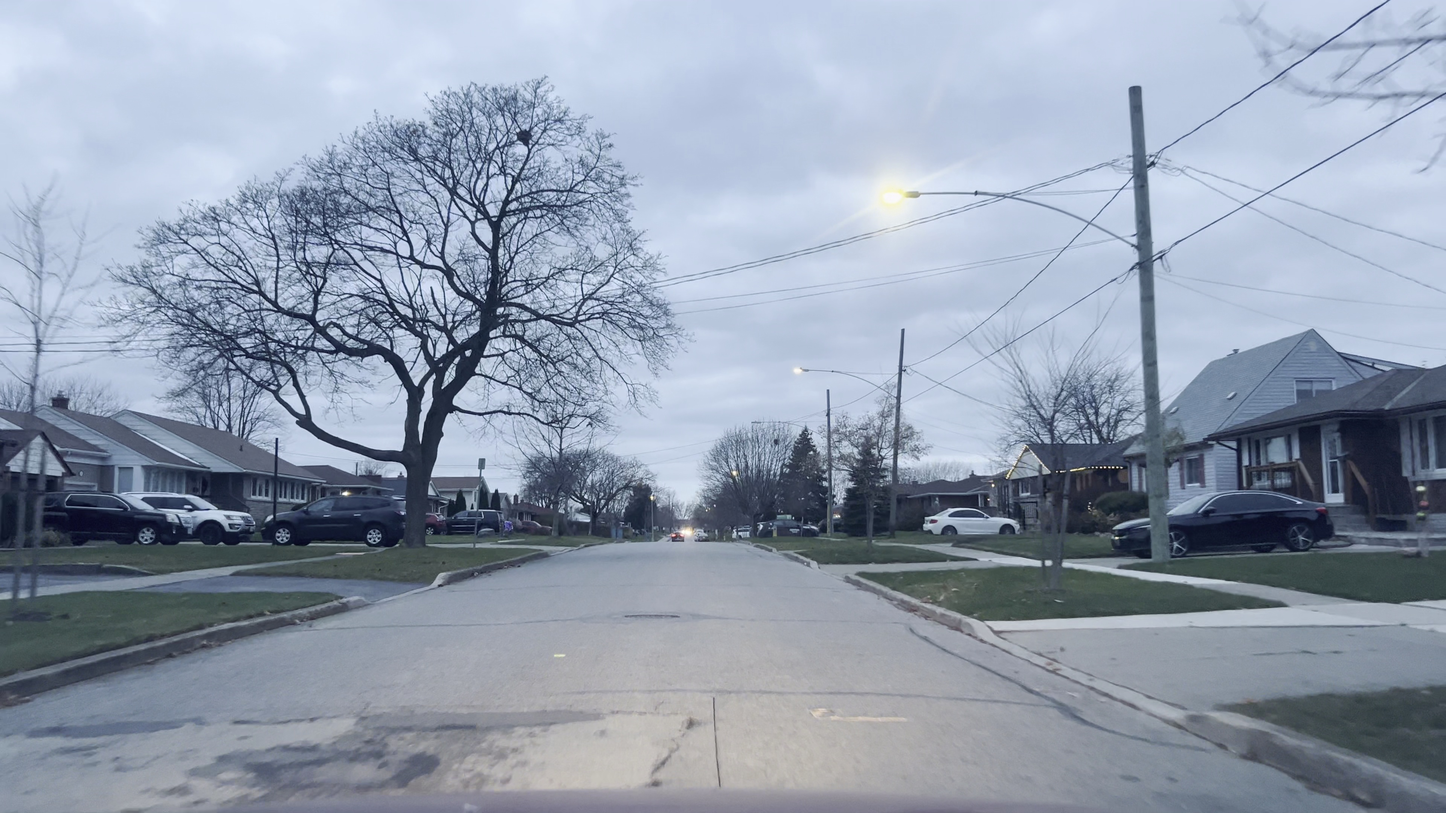cracks: (1017, 669, 1081, 725), (649, 714, 691, 778), (930, 642, 977, 666)
